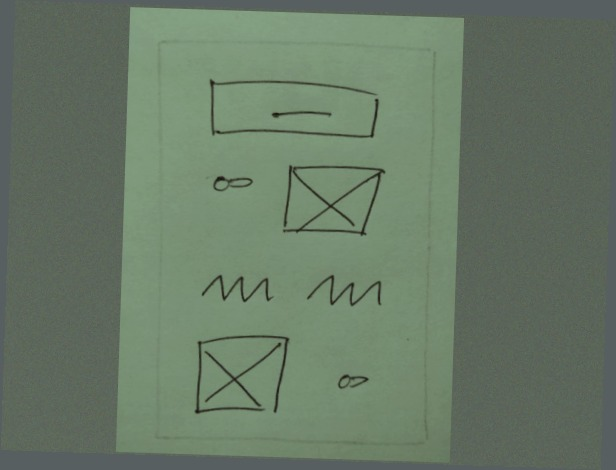button: (200, 70, 390, 147)
image: (184, 326, 292, 422), (273, 159, 393, 241)
switch: (206, 165, 263, 204), (327, 364, 374, 395)
text: (300, 263, 389, 314), (194, 265, 282, 309)
